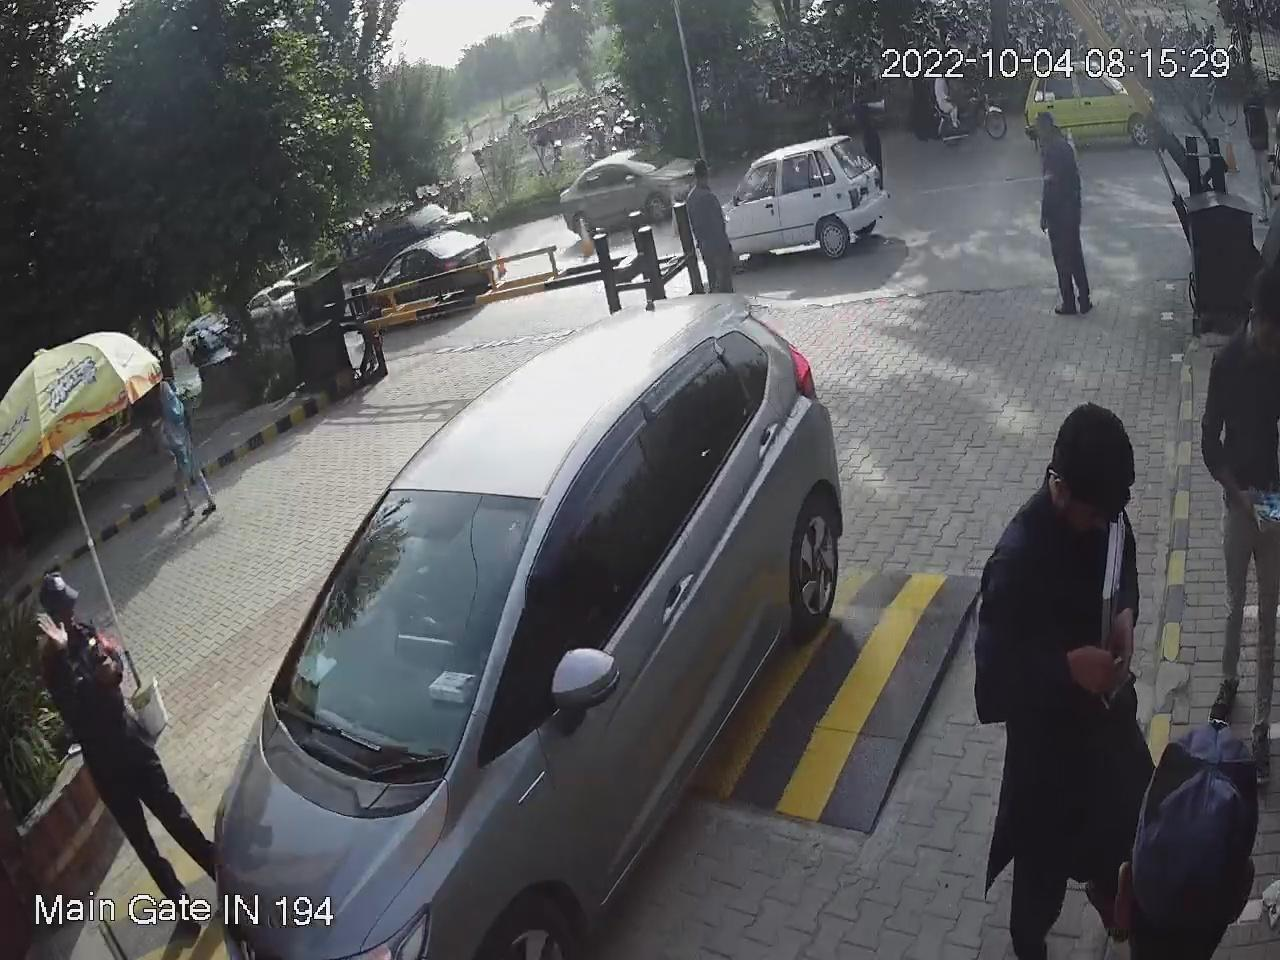windshield: (248, 480, 545, 795)
